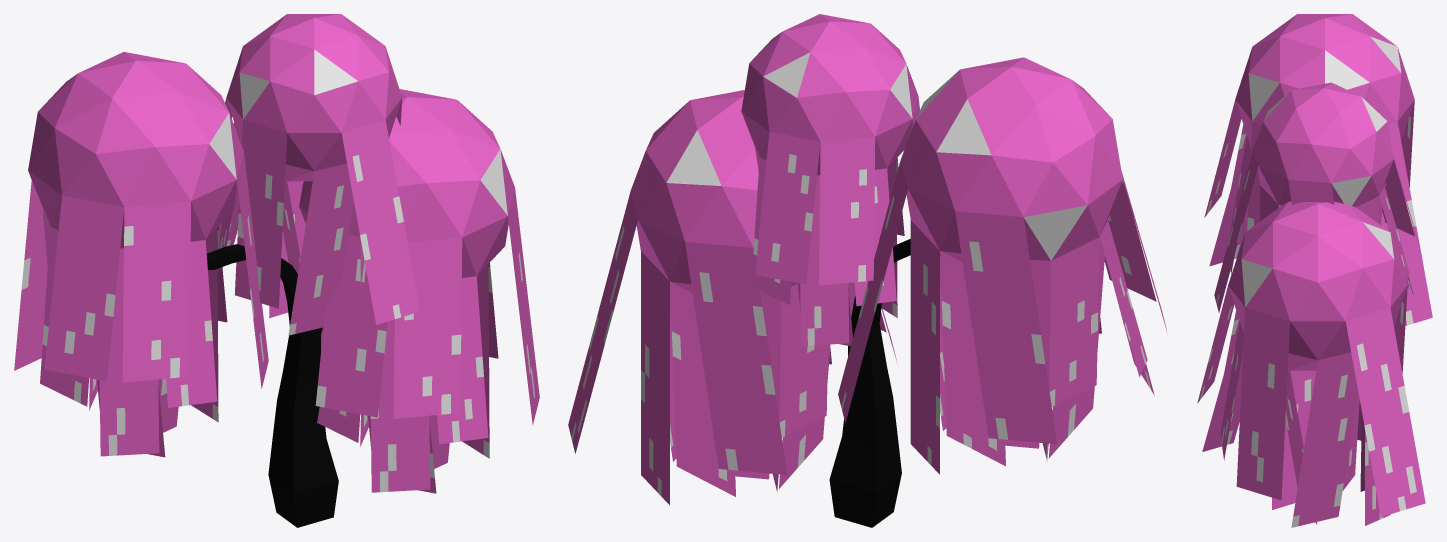
The model's file is SakuraTree.fbx.
3 renders of one model, left to right at view 1: azimuth 30°, elevation 25°; view 2: azimuth 150°, elevation 25°; view 3: azimuth 270°, elevation 25°, orthographic. The views are drawn at different scales.
Visible parts, largest first — view 1: Tree; view 2: Tree; view 3: Tree.
Part boxes in pixels (x1,y1,x2,y2): Tree: (14,14,539,527); Tree: (568,14,1167,527); Tree: (1197,14,1432,527).
Size of the model in its own units: 394 by 351 by 191.
